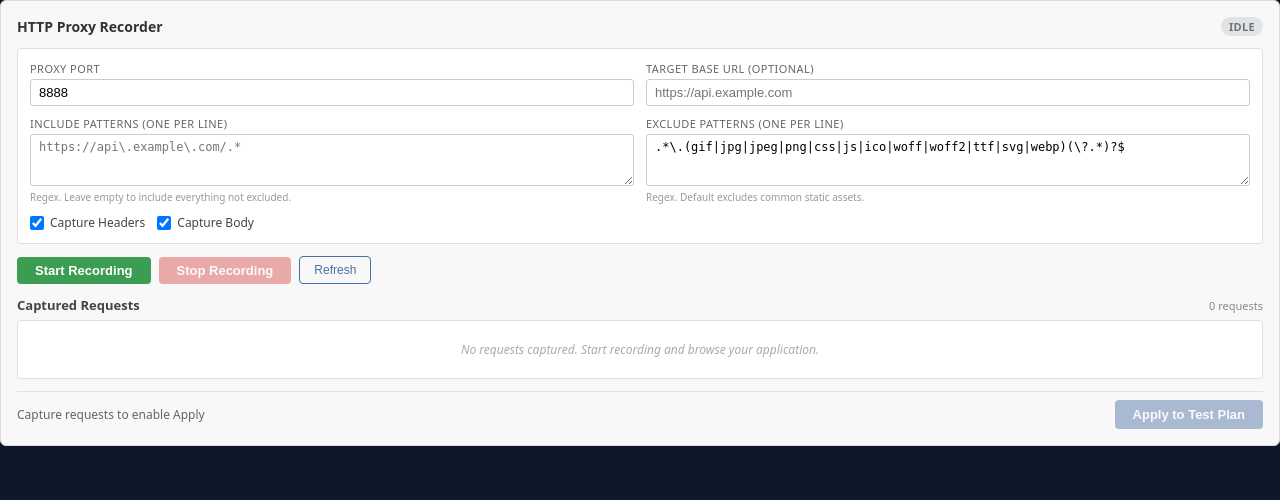
it: ProxyRecorderPanel — start recording › shows error when startRecording API fails
The width and height of the screenshot is (1280, 500).
Click the button with test id "start-recording-btn" at (84, 270), box [17,256,150,284]
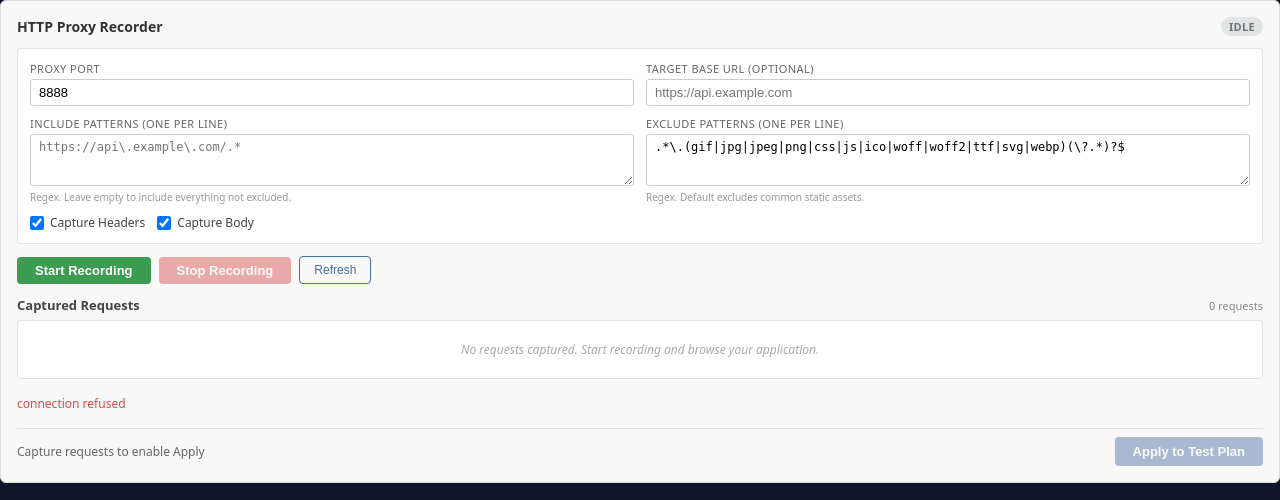
Expected: the message with test id "recorder-error" reads "connection refused", [17,395,126,412]
